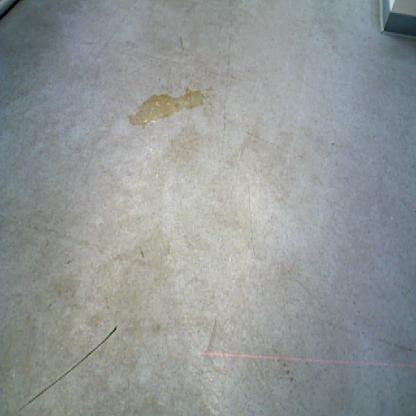liquid: (127, 86, 205, 130), (203, 86, 213, 92)
mark: (18, 322, 118, 411), (203, 96, 236, 126), (246, 179, 256, 255), (244, 126, 279, 146), (225, 1, 233, 87), (378, 336, 416, 353), (203, 318, 219, 356), (282, 360, 295, 384), (184, 1, 198, 15), (177, 32, 186, 53), (125, 39, 140, 50), (137, 243, 146, 259), (61, 257, 74, 266), (166, 239, 172, 256), (330, 138, 336, 146), (48, 302, 52, 310)
